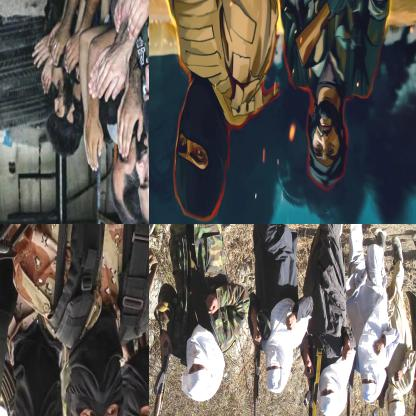rifle: (294, 0, 415, 69), (0, 224, 119, 273), (246, 317, 270, 415), (149, 332, 177, 415), (299, 355, 322, 415), (341, 368, 357, 415), (372, 398, 391, 415)
